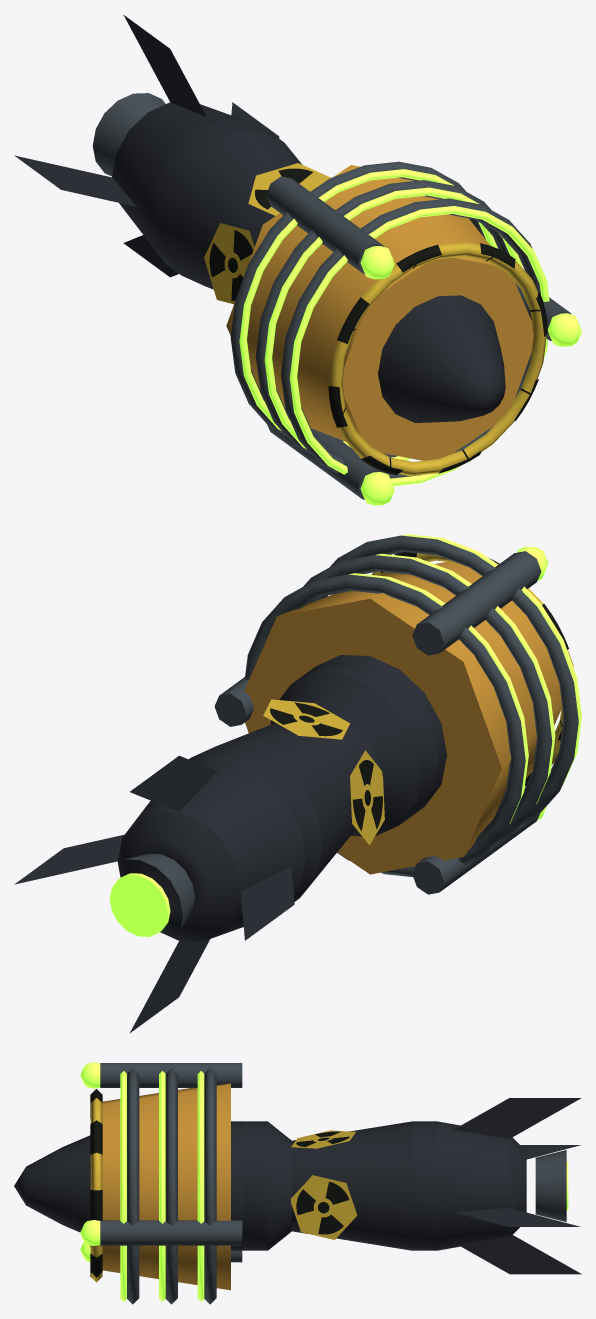
Rendered from radiation-bomb-l3.glb.
The picture shows the model from 3 angles, top to bottom: view 1: azimuth 30°, elevation 25°; view 2: azimuth 150°, elevation 25°; view 3: azimuth 270°, elevation 25°; orthographic projection. The views are drawn at different scales.
Parts seen in each view (by area): view 1: Batched pressure fittings (×4), M1 titanium pressure casing, Warhead armour; view 2: M1 titanium pressure casing, Batched pressure fittings (×4), Warhead armour, Isotope drive throat; view 3: M1 titanium pressure casing, Batched pressure fittings (×4), Warhead armour.
Boxes of the visible parts, x1,y1,x2,y2 form: Batched pressure fittings (×4): (92, 93, 581, 505); M1 titanium pressure casing: (14, 15, 505, 422); Warhead armour: (226, 165, 533, 460); M1 titanium pressure casing: (14, 655, 447, 1032); Batched pressure fittings (×4): (124, 534, 581, 930); Warhead armour: (244, 561, 561, 874); Isotope drive throat: (109, 873, 170, 936); M1 titanium pressure casing: (14, 1098, 581, 1274); Batched pressure fittings (×4): (80, 1062, 566, 1304); Warhead armour: (102, 1083, 230, 1290).
Bounding box in the file's own units: 0.945 × 0.922 × 2.2.
